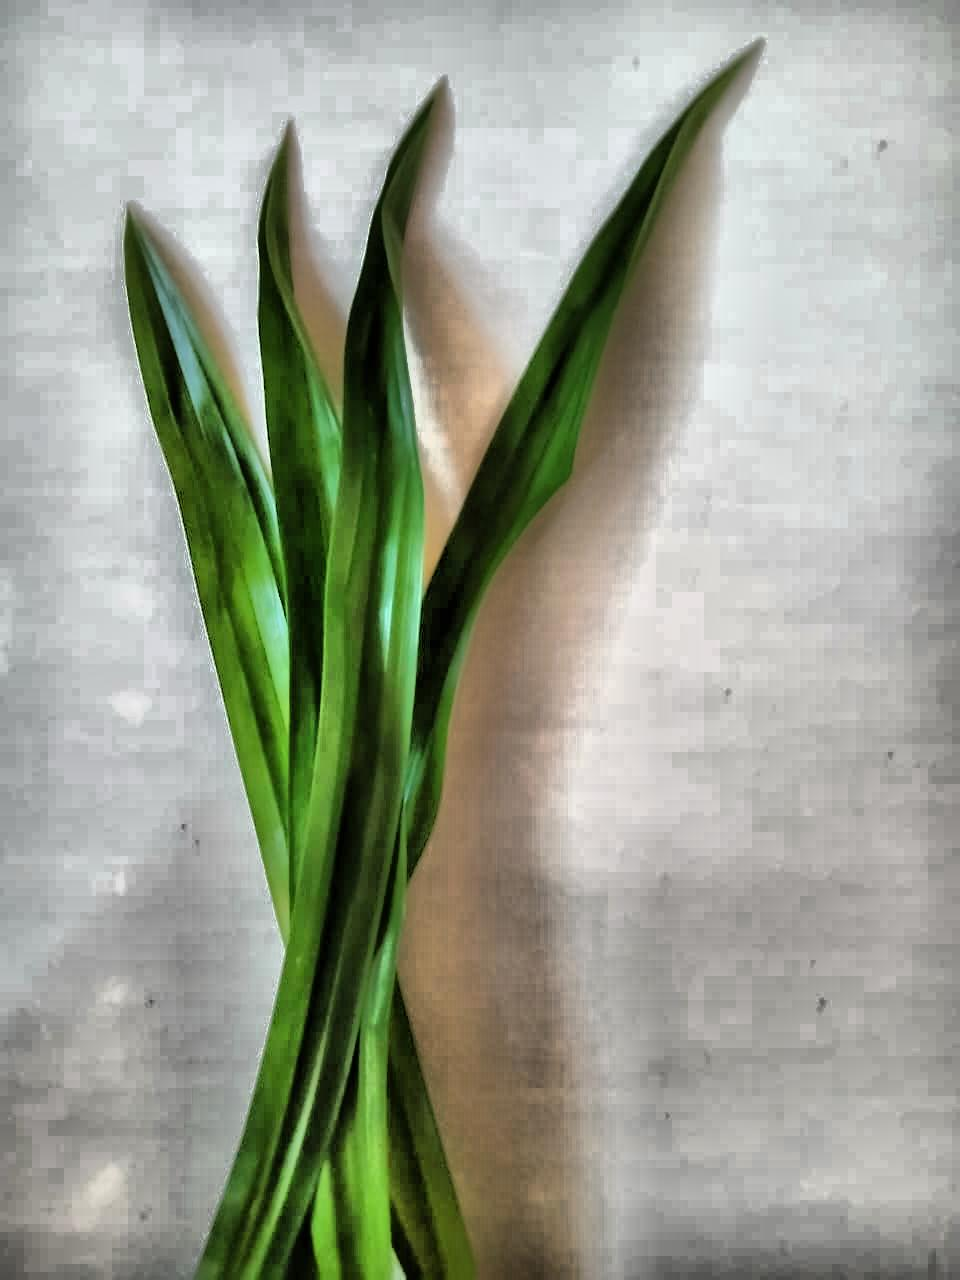daun pandan: (125, 57, 745, 1279)
